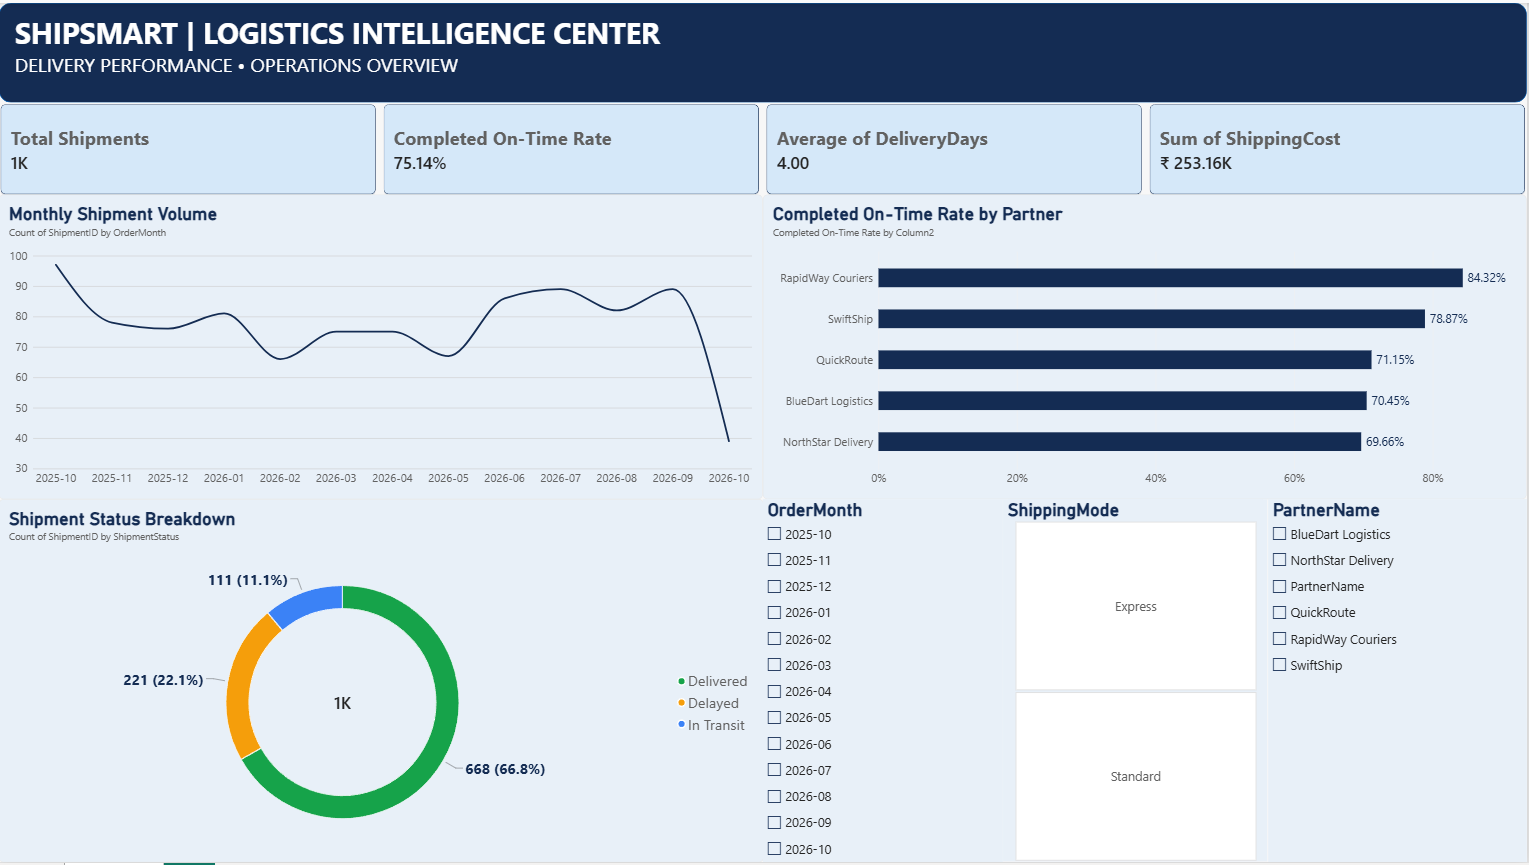

The page's visual inventory and layout, read from the dashboard file:
{"tool":"powerbi","page":{"name":"Page 1","canvas":[2560,1440],"ordinal":0},"visuals":[{"type":"shape","box":[0,0,2561.1,166.8],"z":0},{"type":"textbox","box":[27.4,17.4,2533.7,119.5],"z":1000},{"type":"cardVisual","fields":{"Data":["Shipments.Total Shipments","Shipments.Completed On-Time Rate","Avg(Shipments.DeliveryDays)","Sum(Shipments.ShippingCost)"]},"box":[0,166.8,2561.1,156.8],"z":2000},{"type":"lineChart","title":"Monthly Shipment Volume","fields":{"Category":["Shipments.OrderMonth"],"Y":["CountNonNull(Shipments.ShipmentID)"]},"box":[0,321.2,1280.4,510.4],"z":3000},{"type":"clusteredBarChart","title":"Completed On-Time Rate by Partner","fields":{"Category":["DeliveryPartners.Column2"],"Y":["Shipments.Completed On-Time Rate"]},"box":[1280.4,321.2,1280.4,510.4],"z":4000},{"type":"donutChart","title":"Shipment Status Breakdown","fields":{"Category":["Shipments.ShipmentStatus"],"Y":["CountNonNull(Shipments.ShipmentID)"]},"box":[0,830.8,1281.8,609.1],"z":5000},{"type":"slicer","fields":{"Values":["Shipments.OrderMonth"]},"box":[1280.4,831.6,402.6,609.4],"z":6000},{"type":"slicer","fields":{"Values":["Shipments.ShippingMode"]},"box":[1684,831.3,443,607.4],"z":7000},{"type":"slicer","fields":{"Values":["DeliveryPartners.Column2"]},"box":[2127,831.3,433.5,609.8],"z":8000}]}

Visuals, with their boxes in screenshot pixels (x1, y1, x2, y2), scaled from the page's 2560x1440 canvas onto the 1529x865 screenshot:
shape: [0,0,1528,100]
textbox: [16,10,1528,82]
cardVisual - Shipments.Total Shipments x Shipments.Completed On-Time Rate: [0,100,1528,194]
"Monthly Shipment Volume" lineChart: [0,193,765,500]
"Completed On-Time Rate by Partner" clusteredBarChart: [765,193,1528,500]
"Shipment Status Breakdown" donutChart: [0,499,766,864]
slicer - Shipments.OrderMonth: [765,500,1005,864]
slicer - Shipments.ShippingMode: [1006,499,1270,864]
slicer - DeliveryPartners.Column2: [1270,499,1528,864]
